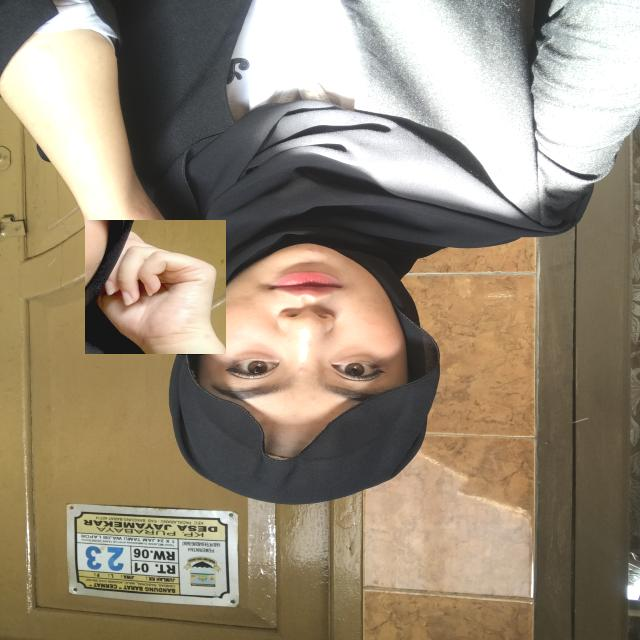ibu: (84, 220, 226, 355)
